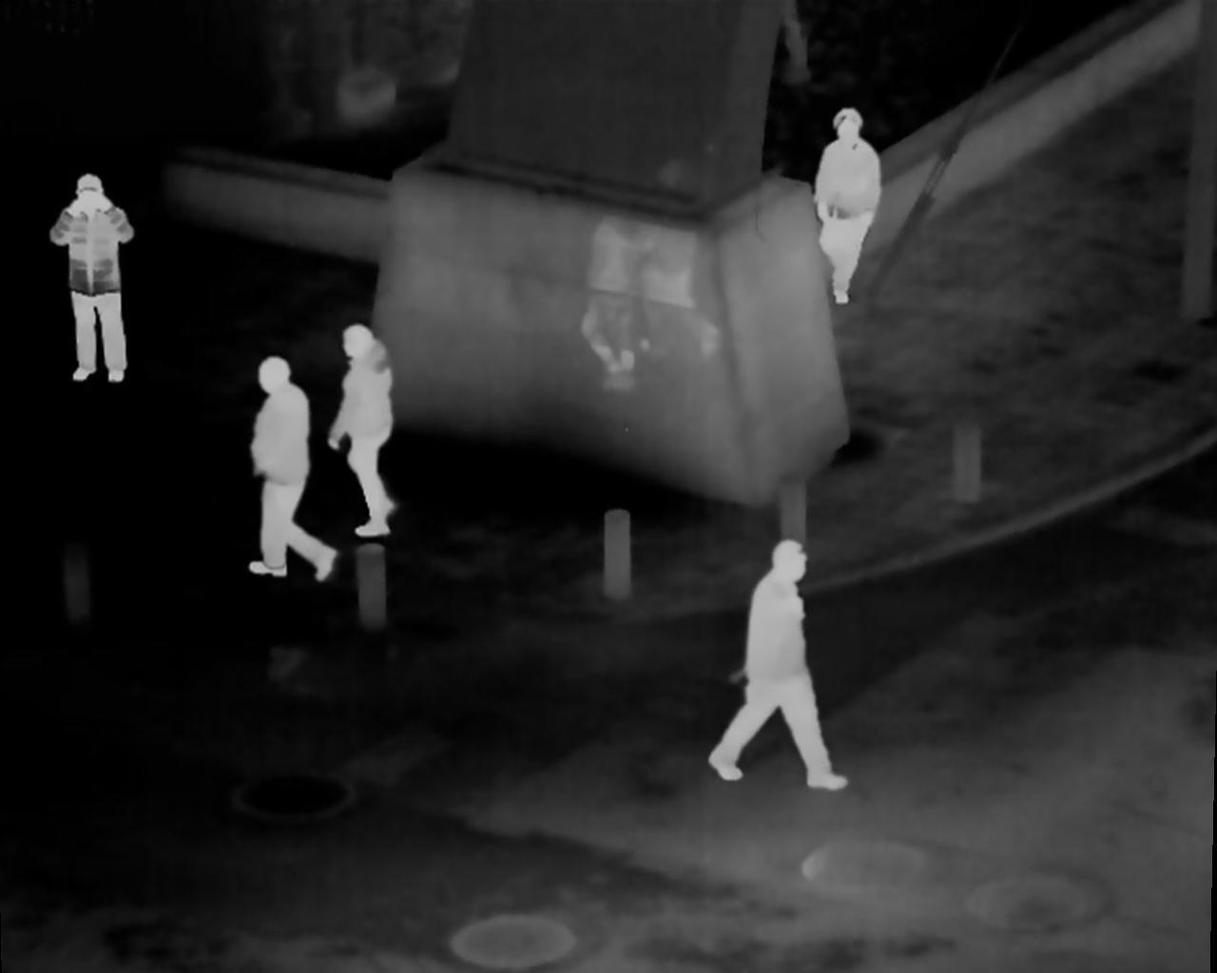person: (718, 533, 849, 789), (240, 360, 338, 582), (53, 175, 139, 389), (335, 324, 401, 534), (814, 110, 884, 297)
